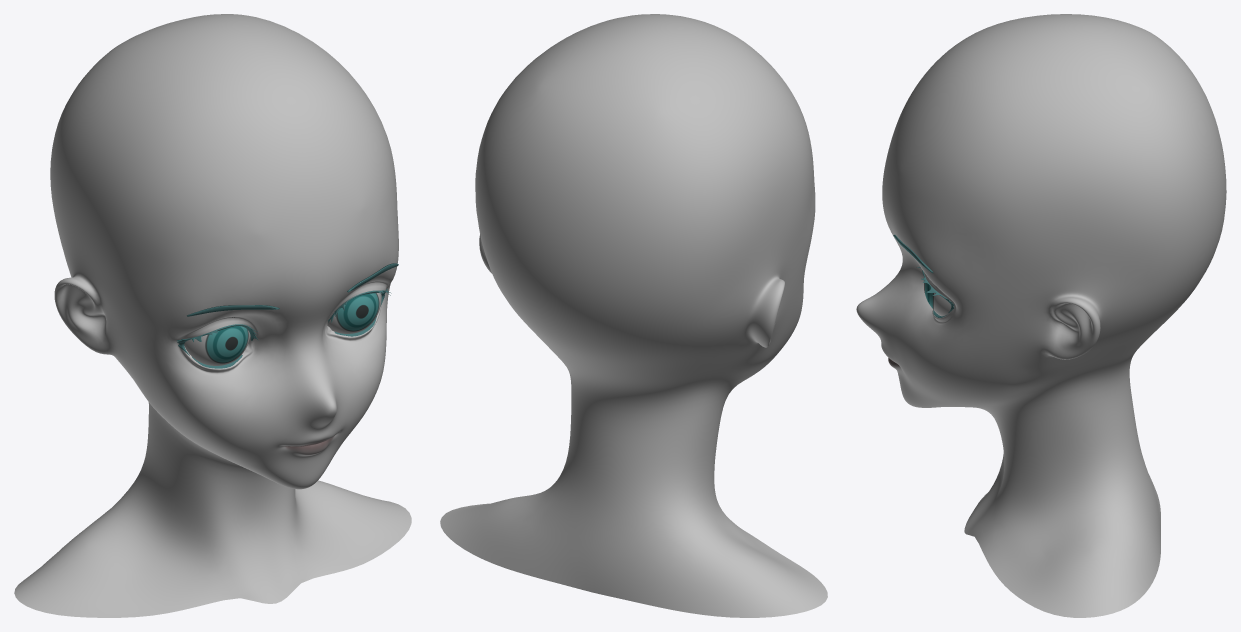
The model's file is robotface.glb.
3 renders of one model, left to right at view 1: azimuth 30°, elevation 25°; view 2: azimuth 150°, elevation 25°; view 3: azimuth 270°, elevation 25°, orthographic. The views are drawn at different scales.
Visible parts, largest first — view 1: headretopo, PM3D_Sphere3D1_1, Extract23, eyelashesblender; view 2: headretopo; view 3: headretopo.
Boxes of the visible parts, x1,y1,x2,y2 form: headretopo: (14, 14, 411, 617); PM3D_Sphere3D1_1: (184, 293, 381, 365); Extract23: (187, 263, 398, 316); eyelashesblender: (177, 289, 391, 355); headretopo: (440, 14, 827, 617); headretopo: (856, 14, 1226, 617).
Bounding box in the file's own units: 0.00255 × 0.00339 × 0.00225.
